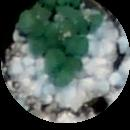Basil: (13, 8, 49, 33), (69, 35, 91, 72), (71, 12, 104, 35), (49, 50, 69, 84), (29, 36, 62, 56), (61, 0, 78, 17)
